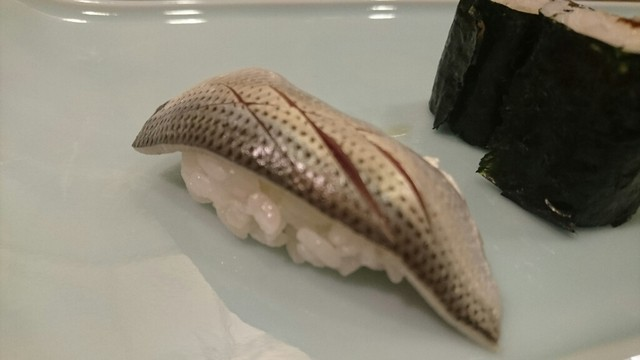spotted-shad: (131, 66, 508, 354)
